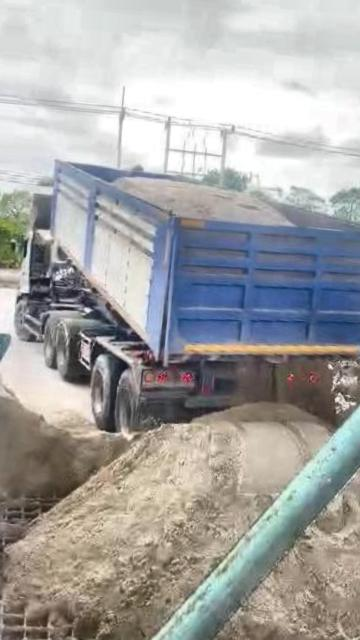sand: (7, 403, 328, 640), (219, 466, 360, 640), (0, 381, 127, 501), (116, 177, 290, 224), (240, 358, 360, 423)
